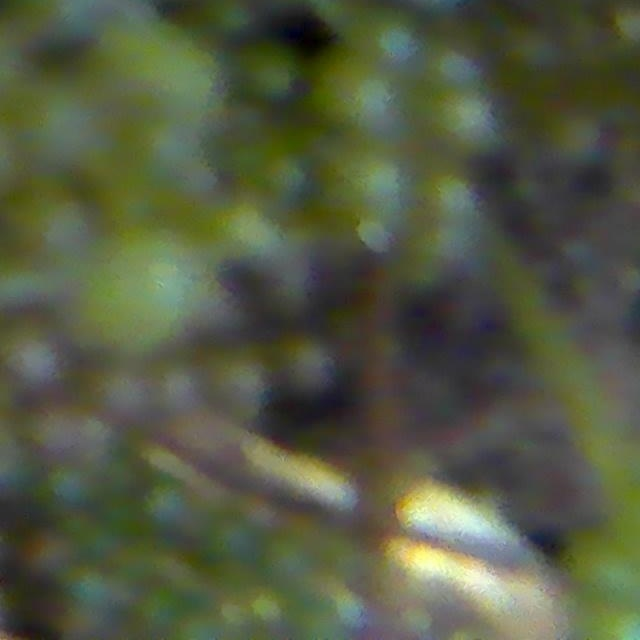SeaGrape: (66, 233, 200, 347), (122, 24, 231, 130), (19, 80, 117, 176), (307, 50, 395, 137), (11, 188, 99, 272), (427, 85, 506, 161), (333, 150, 406, 226), (203, 347, 273, 423), (357, 10, 426, 77), (237, 43, 301, 104), (424, 43, 482, 97), (592, 601, 640, 639)
